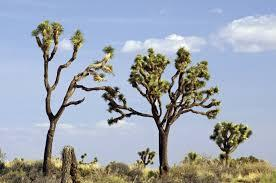tree: (115, 48, 221, 176), (31, 19, 114, 173), (212, 122, 255, 167)
